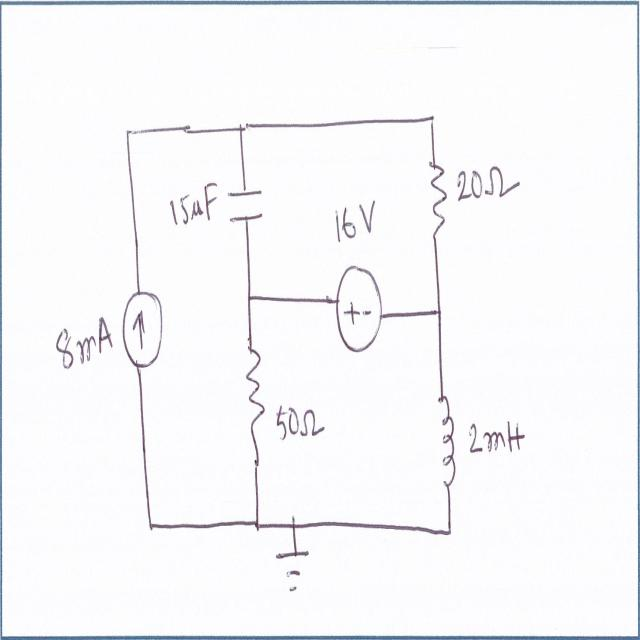capacitor: (226, 178, 266, 230)
current_source: (120, 285, 168, 371)
ground: (272, 540, 310, 598)
inductor: (434, 385, 459, 496)
resistor: (244, 346, 267, 440), (427, 159, 451, 245)
voltage_source: (336, 261, 384, 354)
